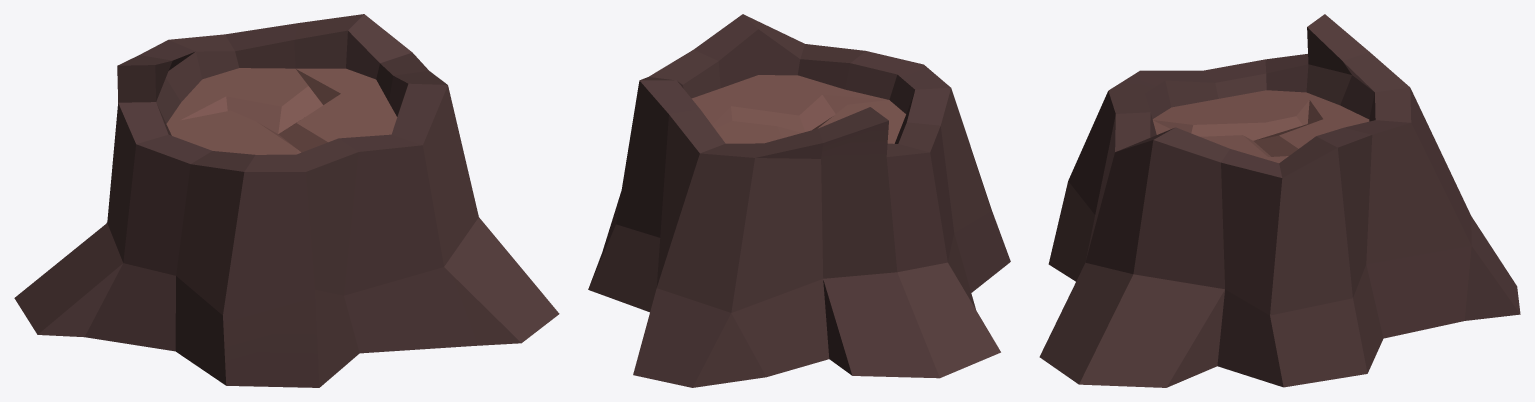
Rendered from DarkRoseWoodDecorationLargeTreeStump1.fbx.
3 renders of one model, left to right at view 1: azimuth 30°, elevation 25°; view 2: azimuth 150°, elevation 25°; view 3: azimuth 270°, elevation 25°, orthographic. The views are drawn at different scales.
Parts seen in each view (by area): view 1: DarkRoseWoodDecorationLargeTreeStump1; view 2: DarkRoseWoodDecorationLargeTreeStump1; view 3: DarkRoseWoodDecorationLargeTreeStump1.
Boxes of the visible parts, left/top/right/bottom form: DarkRoseWoodDecorationLargeTreeStump1: left=14, top=14, right=559, bottom=387; DarkRoseWoodDecorationLargeTreeStump1: left=588, top=14, right=1010, bottom=387; DarkRoseWoodDecorationLargeTreeStump1: left=1039, top=14, right=1520, bottom=387.
Bounding box in the file's own units: 367 × 194 × 378.
